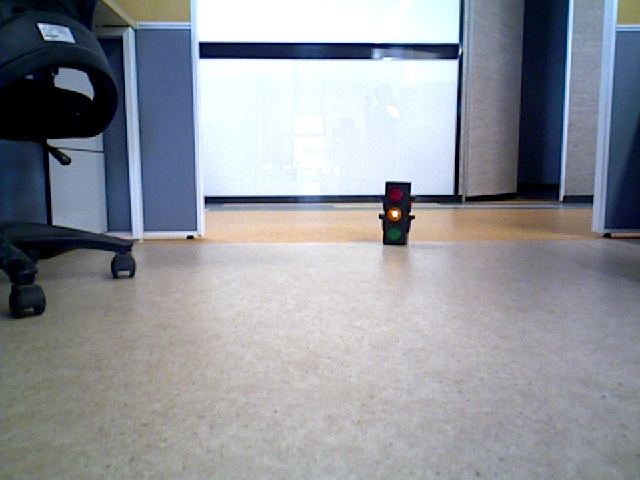yellow: (386, 185, 405, 244)
